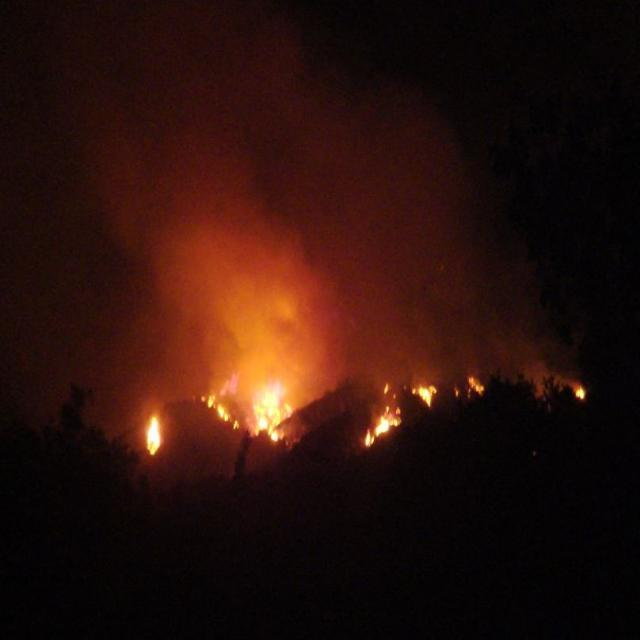Fire: (243, 378, 294, 444), (363, 384, 402, 450), (199, 373, 239, 432), (144, 412, 164, 457), (412, 384, 438, 407), (468, 376, 484, 396), (574, 385, 586, 399)
Smoke: (114, 102, 456, 377), (489, 334, 546, 380)
